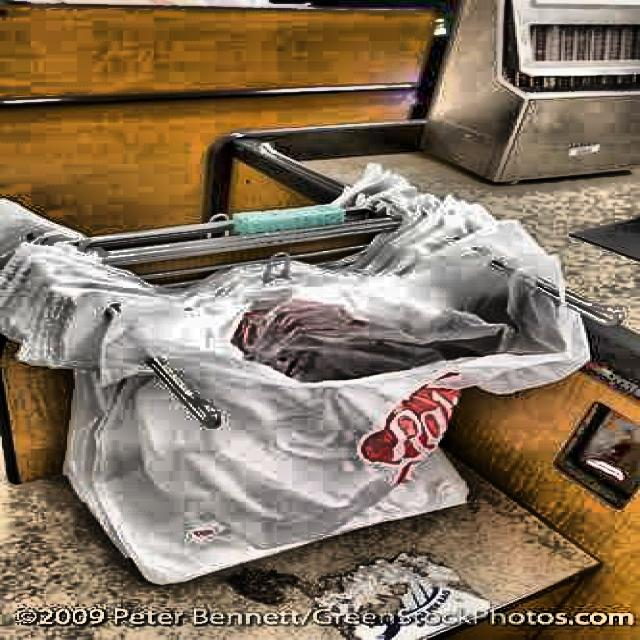Plastic: (56, 225, 580, 567)
